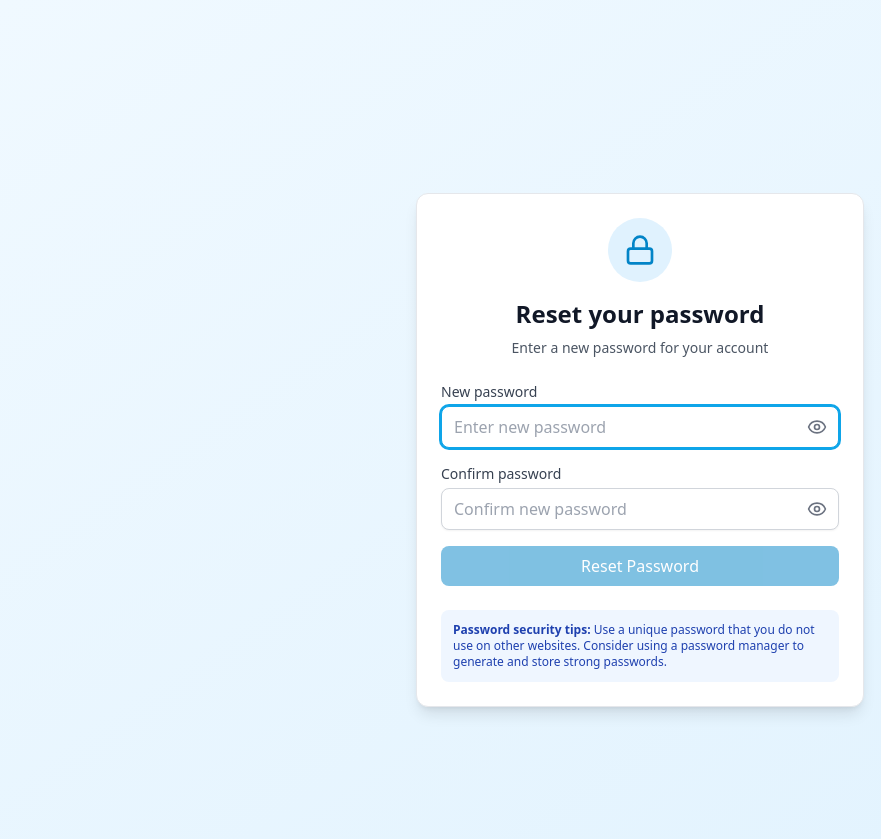
Test: ResetPasswordPage › should show loading state during submission
Expected: the heading "Reset your password" is shown, [516,297,764,330]
Step 1. Type "TestPassword123!" into the password field labelled "New password" → (640, 427), box [441,406,839,448]
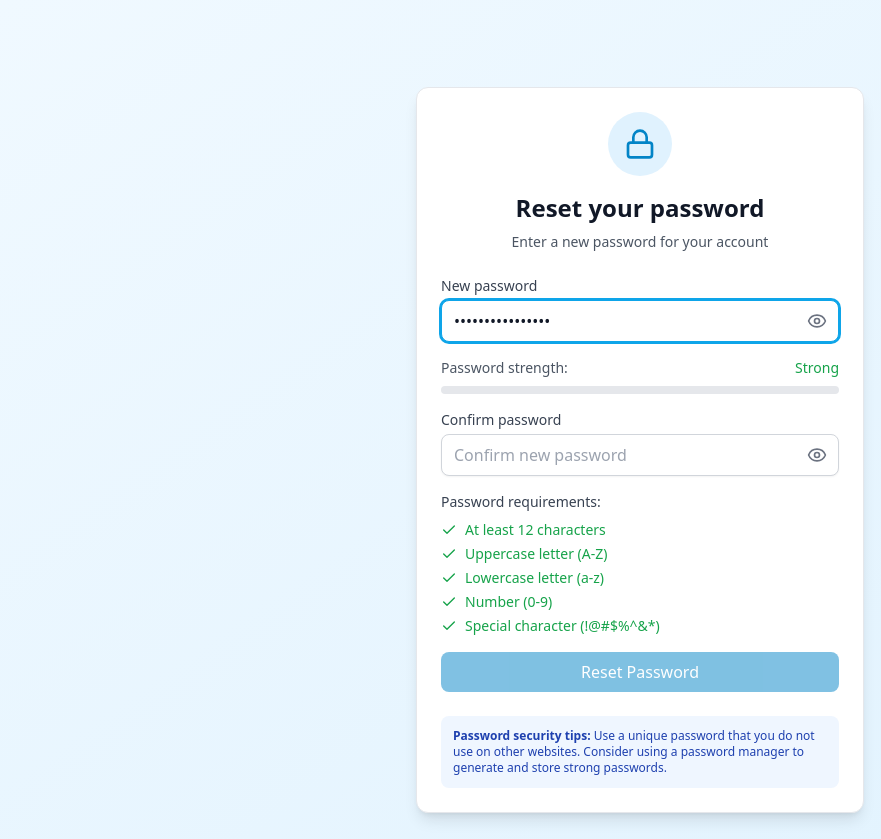
Step 2. Type "TestPassword123!" into the password field labelled "Confirm password" → (640, 455), box [441,434,839,476]
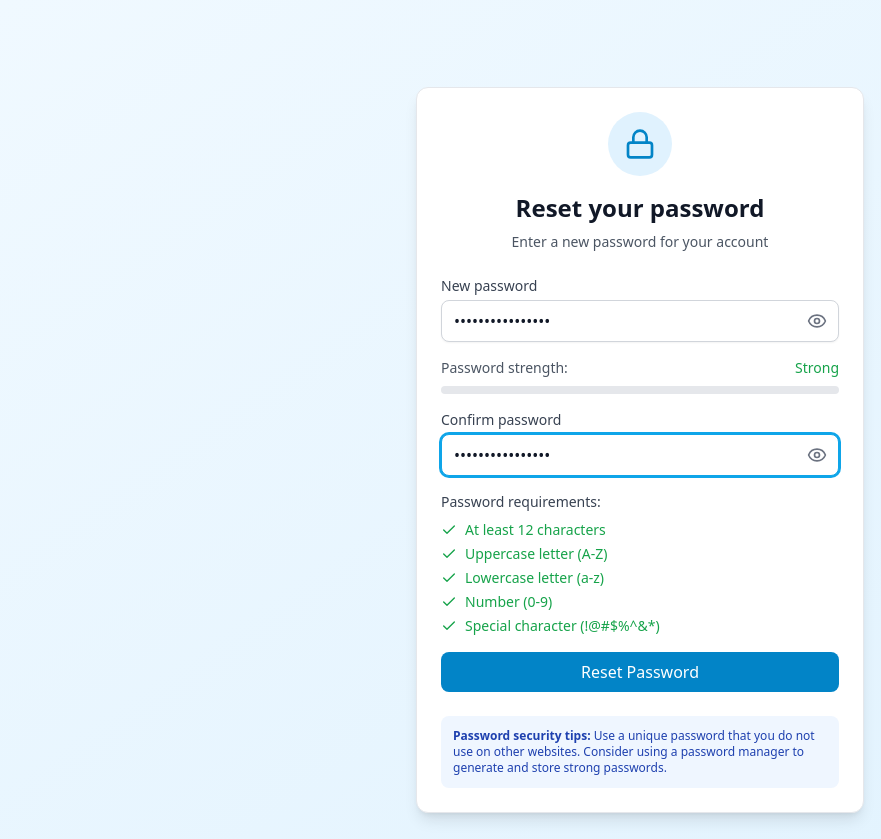
Step 3. Click the button "Reset Password" → (640, 672), box [441,652,839,692]
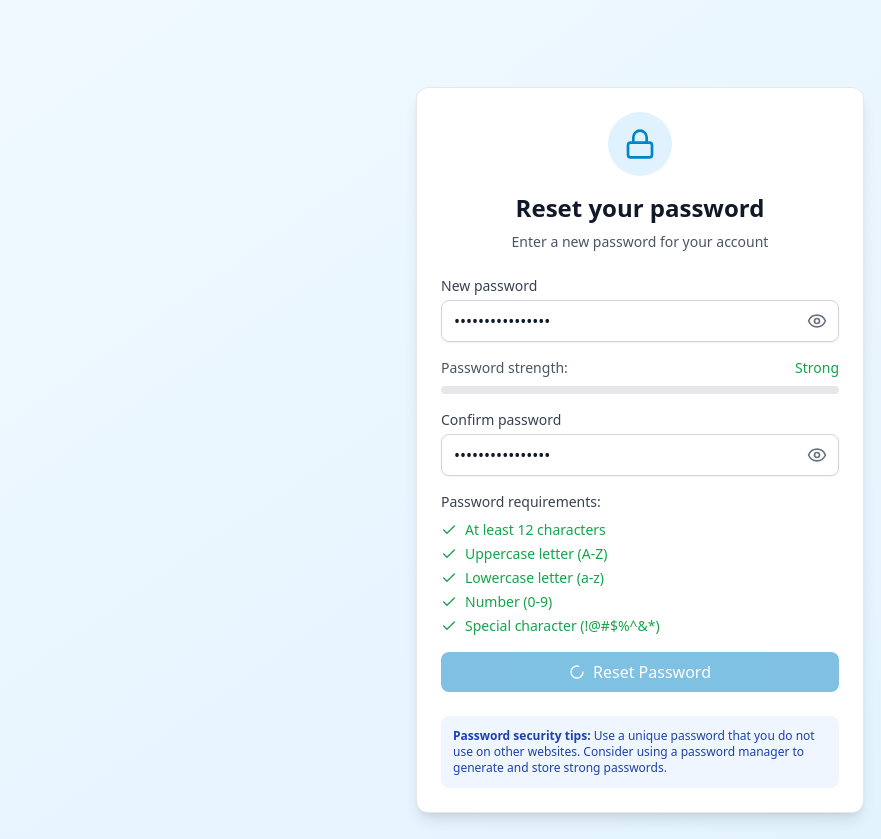
Expected: the button "Reset Password" is disabled, [441,652,839,692]
